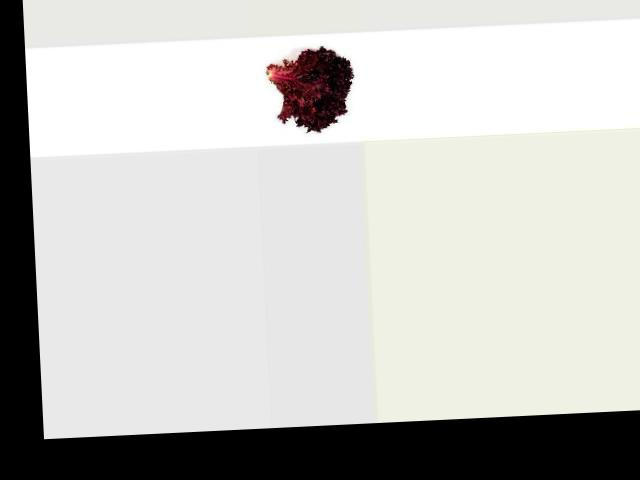lettuce: (256, 48, 360, 137)
